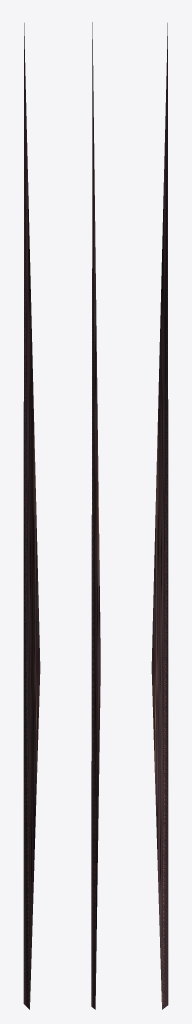
The model's file is flame_lroom_door.glb.
3 renders of one model, left to right at view 1: azimuth 90°, elevation 25°; view 2: azimuth 150°, elevation 25°; view 3: azimuth 270°, elevation 25°, orthographic.
Visible parts, largest first — view 1: res\dun\property\flame\com\flame_lroom_door.bsr; view 2: res\dun\property\flame\com\flame_lroom_door.bsr; view 3: res\dun\property\flame\com\flame_lroom_door.bsr.
Boxes of the visible parts, bbox=[...] form: res\dun\property\flame\com\flame_lroom_door.bsr: bbox=[23, 23, 40, 1009]; res\dun\property\flame\com\flame_lroom_door.bsr: bbox=[91, 22, 100, 1009]; res\dun\property\flame\com\flame_lroom_door.bsr: bbox=[151, 23, 168, 1009].
Size of the model in its own units: 0.2464 by 180 by 2.74.
Materials: 1 (1 with a texture image).
